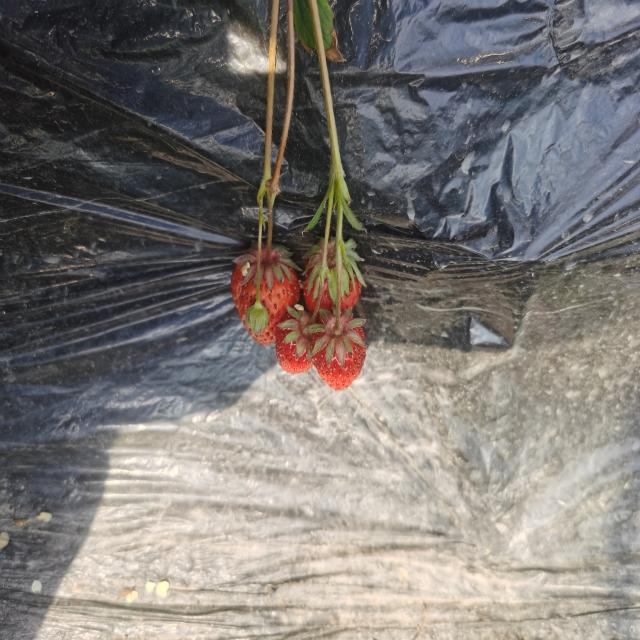stem: (305, 283, 323, 331), (264, 216, 273, 265), (333, 283, 341, 335)
strawberry: (257, 243, 300, 346), (311, 314, 366, 390), (275, 310, 317, 373), (231, 243, 257, 323), (304, 240, 324, 313), (341, 242, 362, 309), (320, 241, 336, 308)
